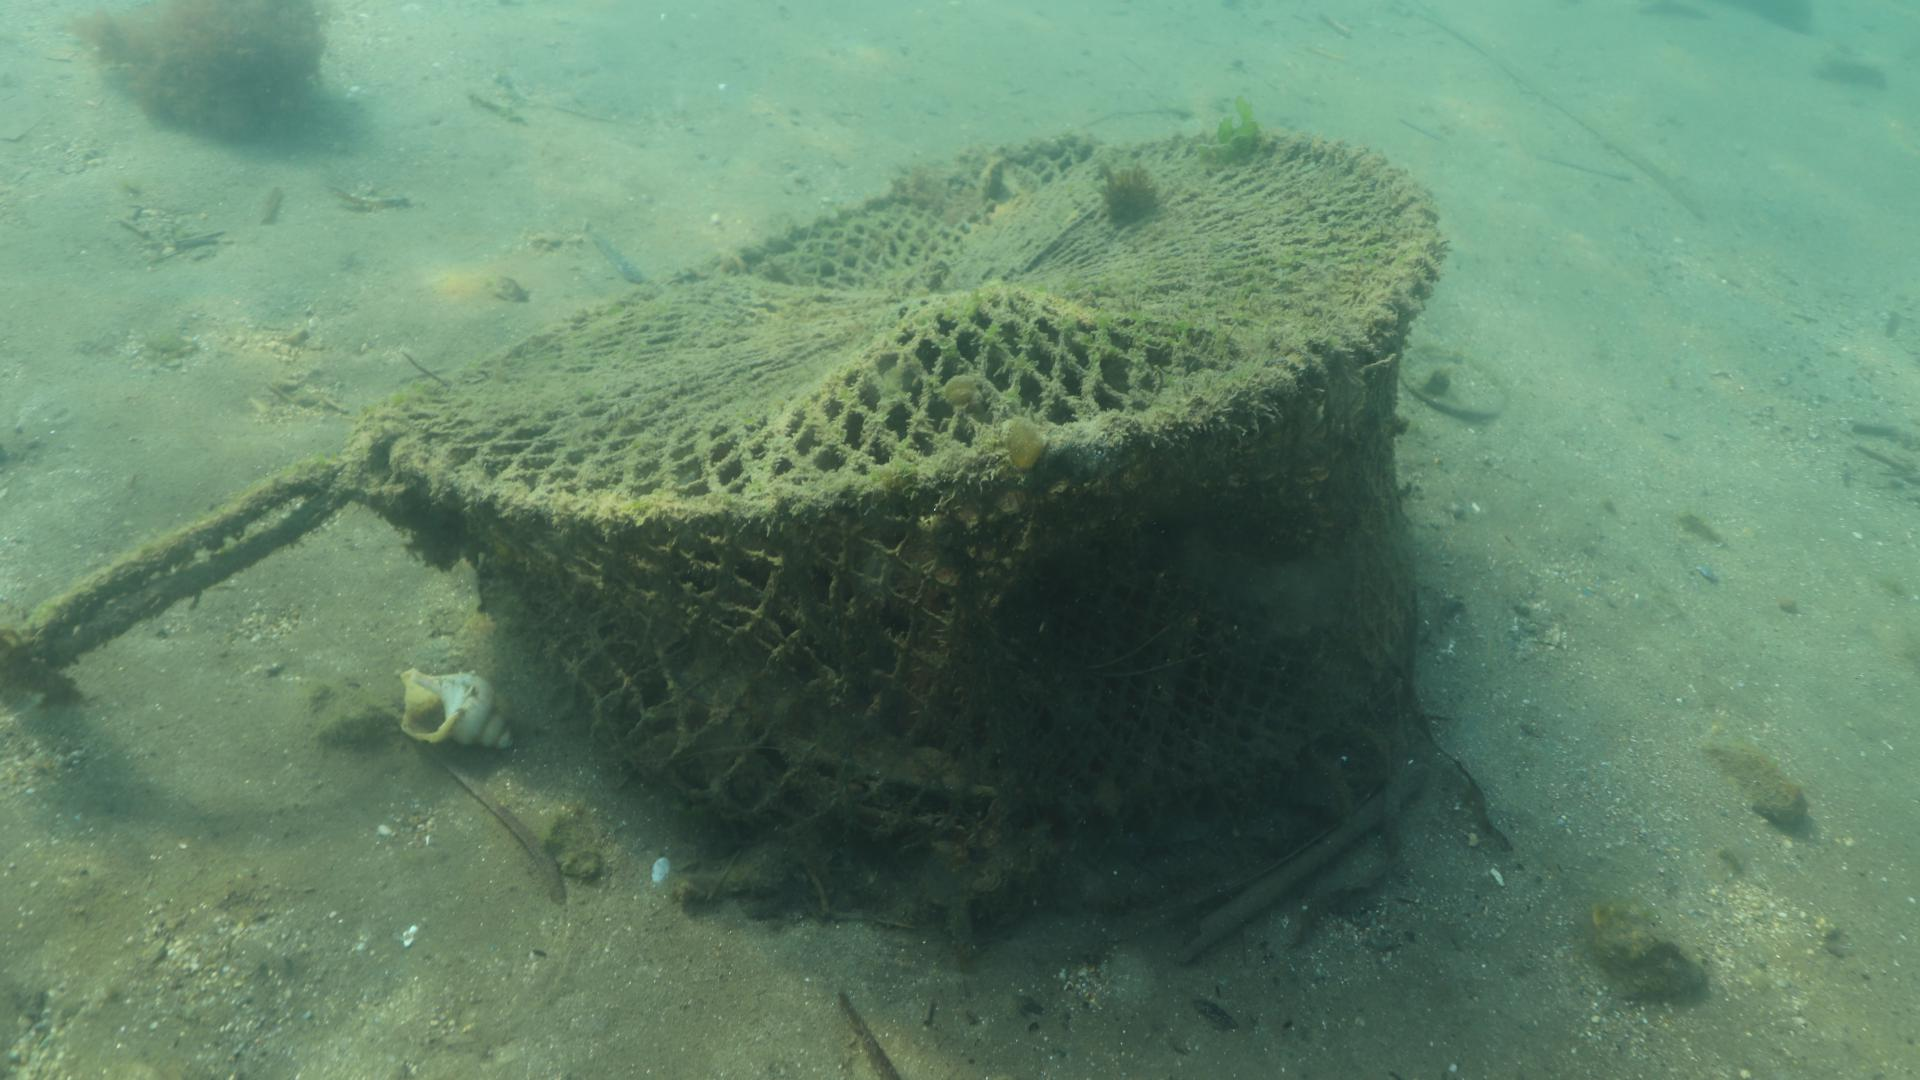bundle of ropes: (0, 451, 349, 682)
circular fish trap: (355, 127, 1444, 873)
